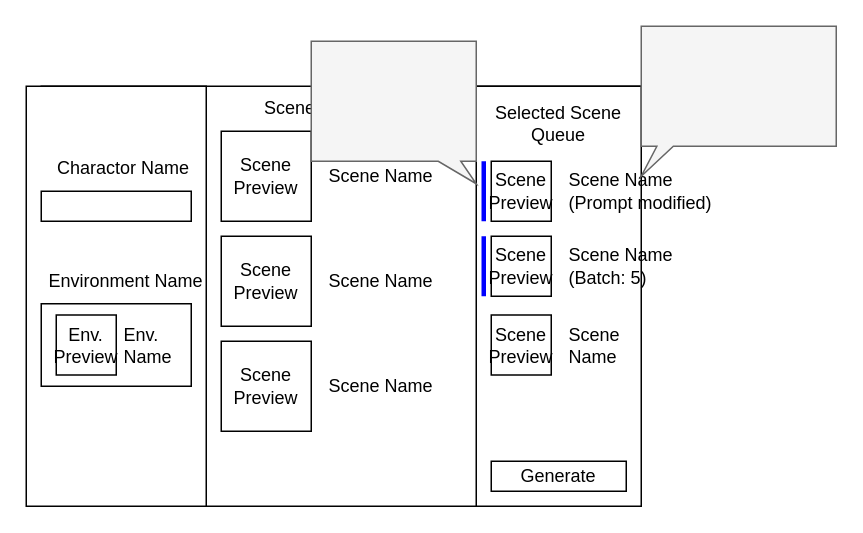
Some shapes in this 863 by 533 pixel diagram are drawn without their labels. The centre of each missing label's shape, as x and y in pixels:
変更したシーンにはブランドカラーのアクセントラインを表示: (393,112)
変更した内容をバッジで付与: (738,100)
